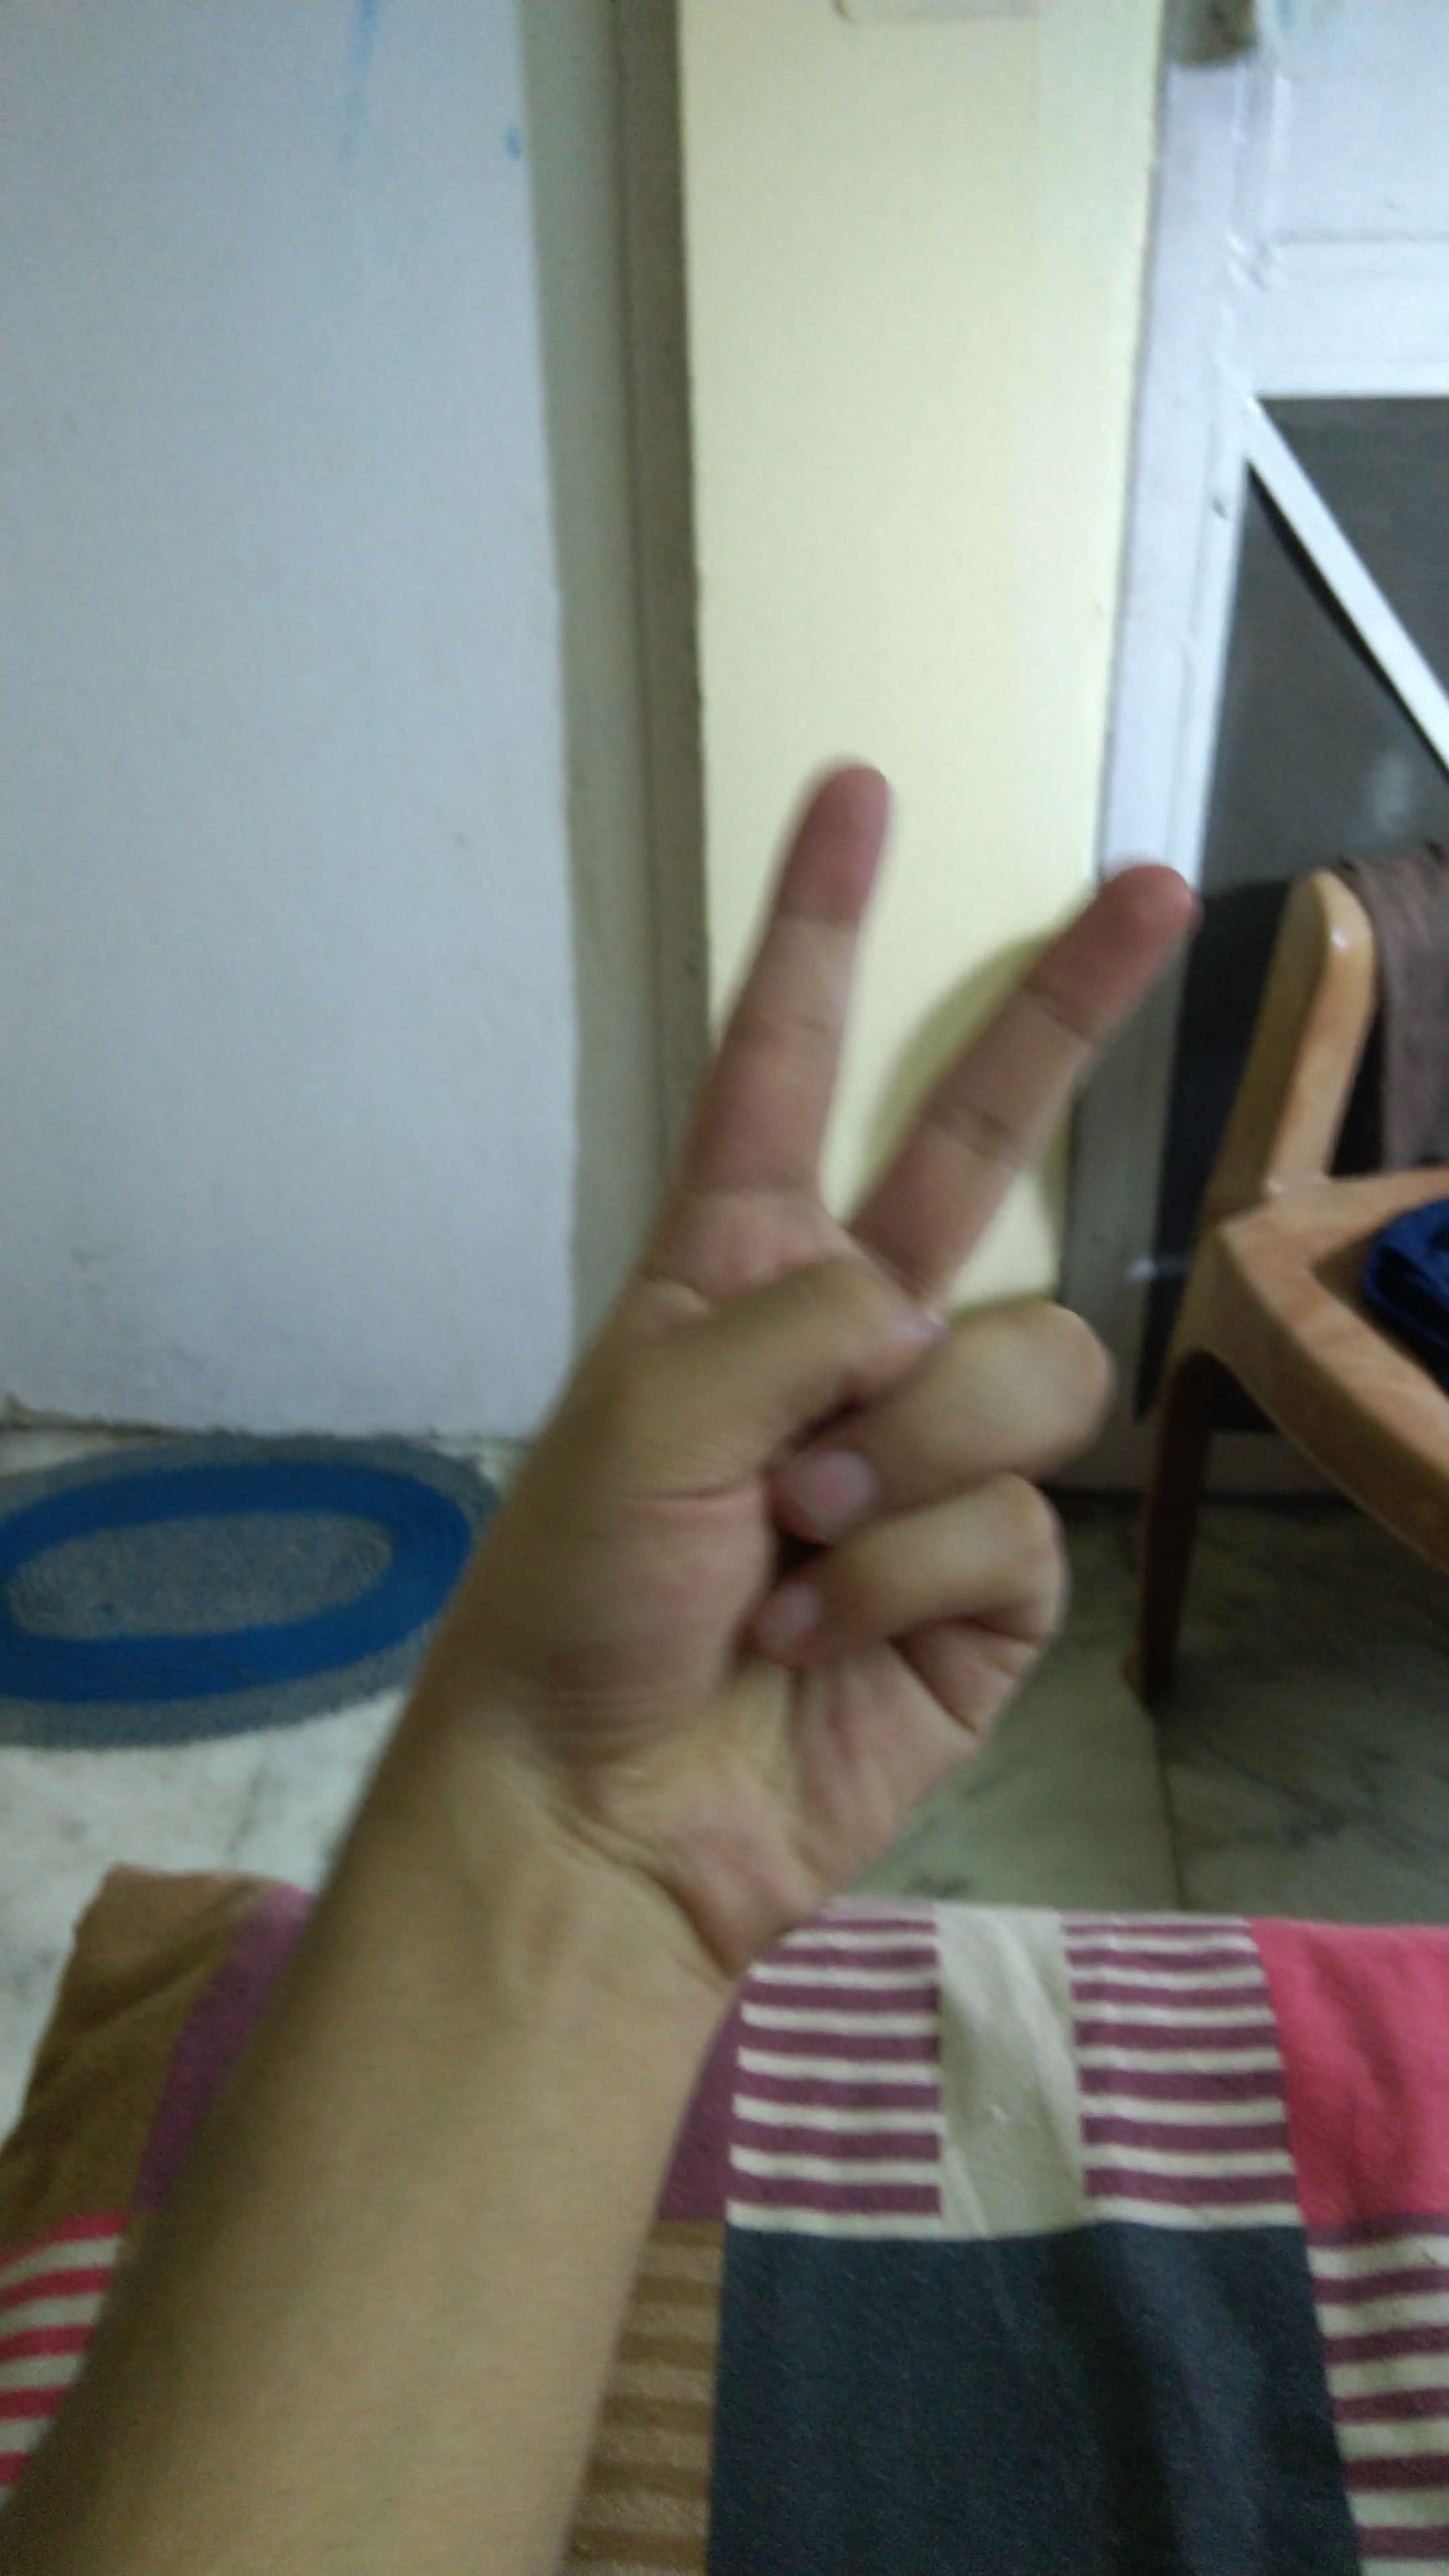hand: (136, 706, 1352, 2135)
